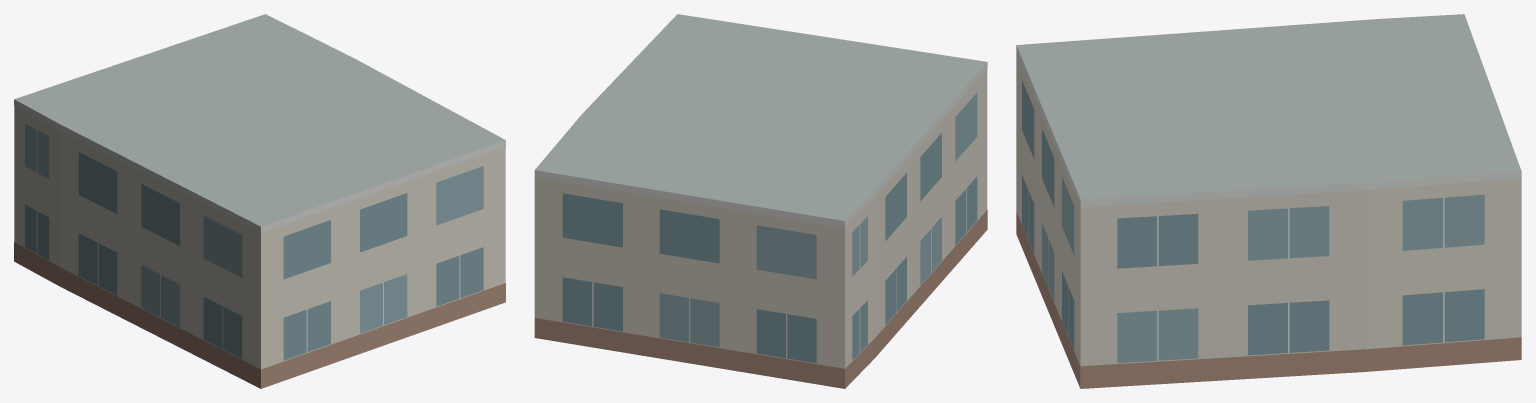
File: survey-upis-33032900.glb
3 views of the same model, side by side, from view 1: azimuth 30°, elevation 25°; view 2: azimuth 150°, elevation 25°; view 3: azimuth 270°, elevation 25° (orthographic). The views are drawn at different scales.
Visible parts, largest first — view 1: survey-upis-33032900.tmp; view 2: survey-upis-33032900.tmp; view 3: survey-upis-33032900.tmp.
Part boxes in pixels (x1,y1,x2,y2): survey-upis-33032900.tmp: (14,14,505,388); survey-upis-33032900.tmp: (534,14,987,388); survey-upis-33032900.tmp: (1016,14,1521,388).
Size of the model in its own units: 12.87 by 6.1 by 14.78.
